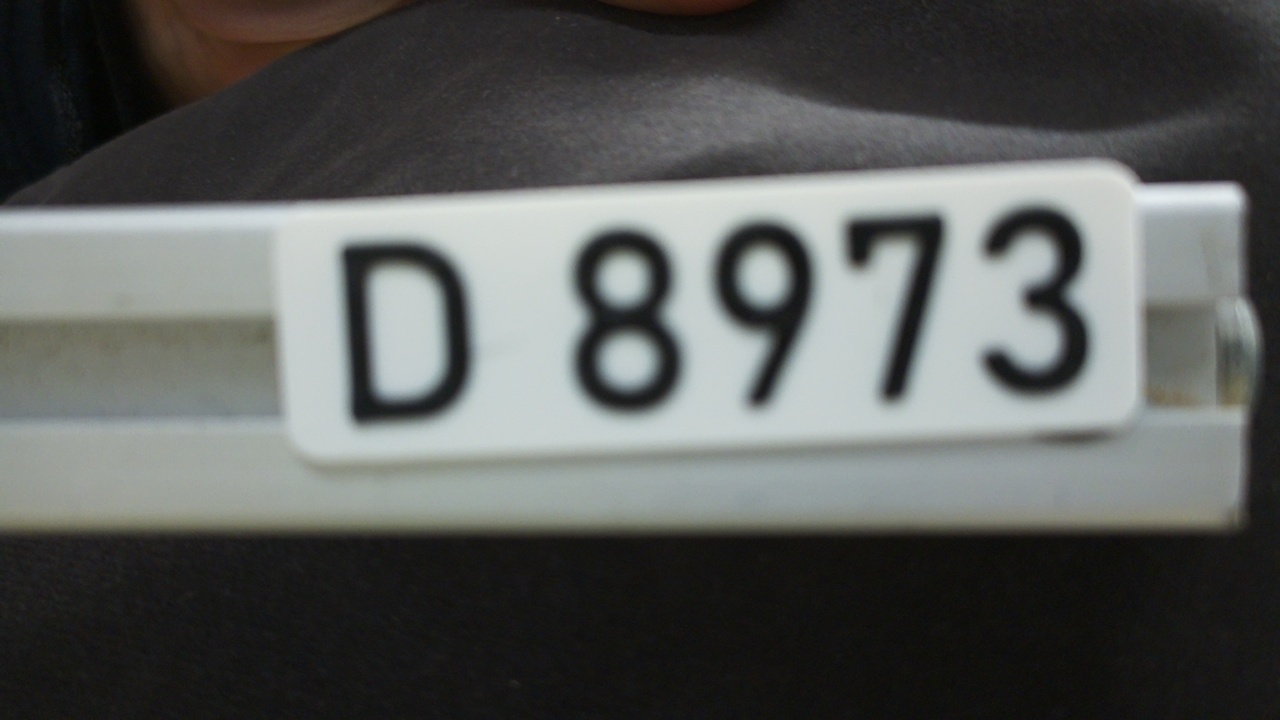license_plate: (270, 155, 1156, 473)
